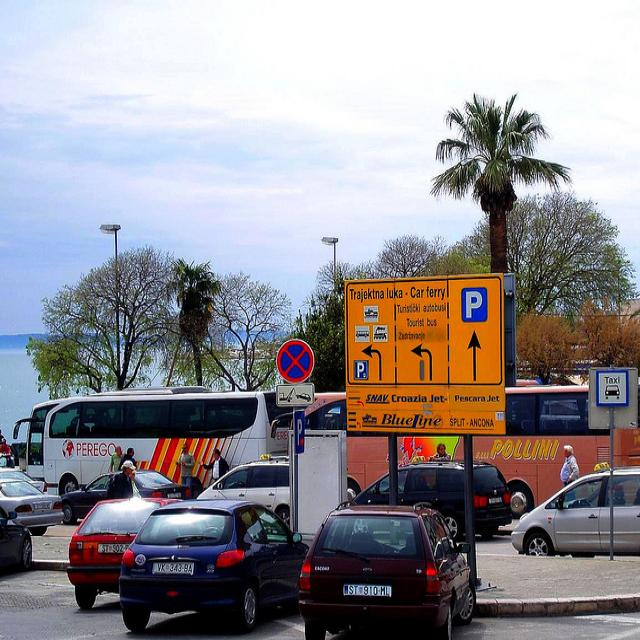Vehicle: (302, 382, 640, 520), (13, 388, 291, 492), (120, 499, 311, 630), (299, 500, 477, 640), (352, 457, 514, 542), (511, 466, 640, 557), (71, 493, 160, 612), (59, 470, 190, 524), (195, 456, 289, 522), (0, 478, 61, 533), (2, 510, 33, 576), (0, 468, 48, 495)
